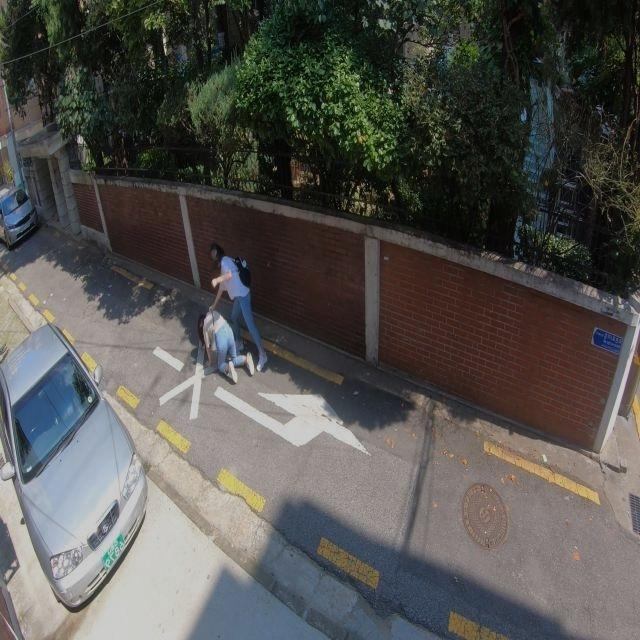fight: (195, 240, 265, 384)
